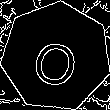O_N: (28, 26, 84, 88)
